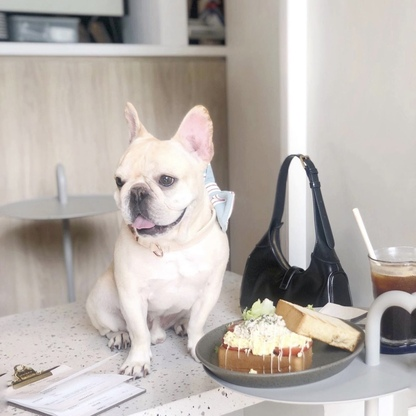bulldog: (83, 100, 230, 377)
